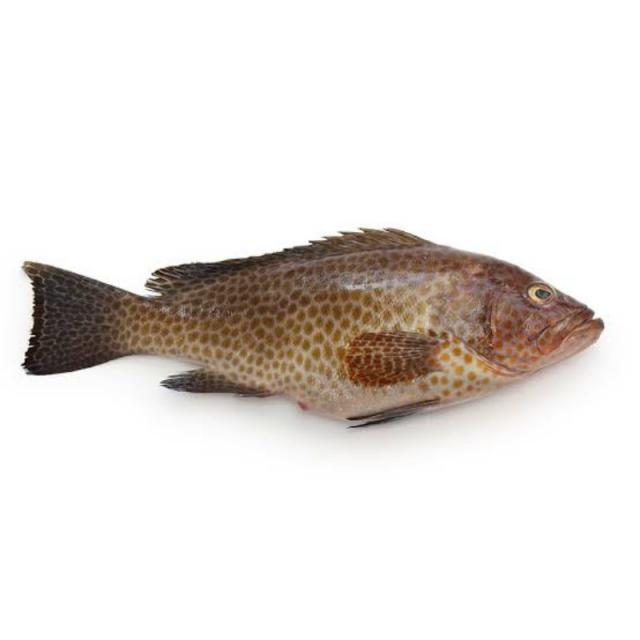grouper: (17, 216, 610, 434)
